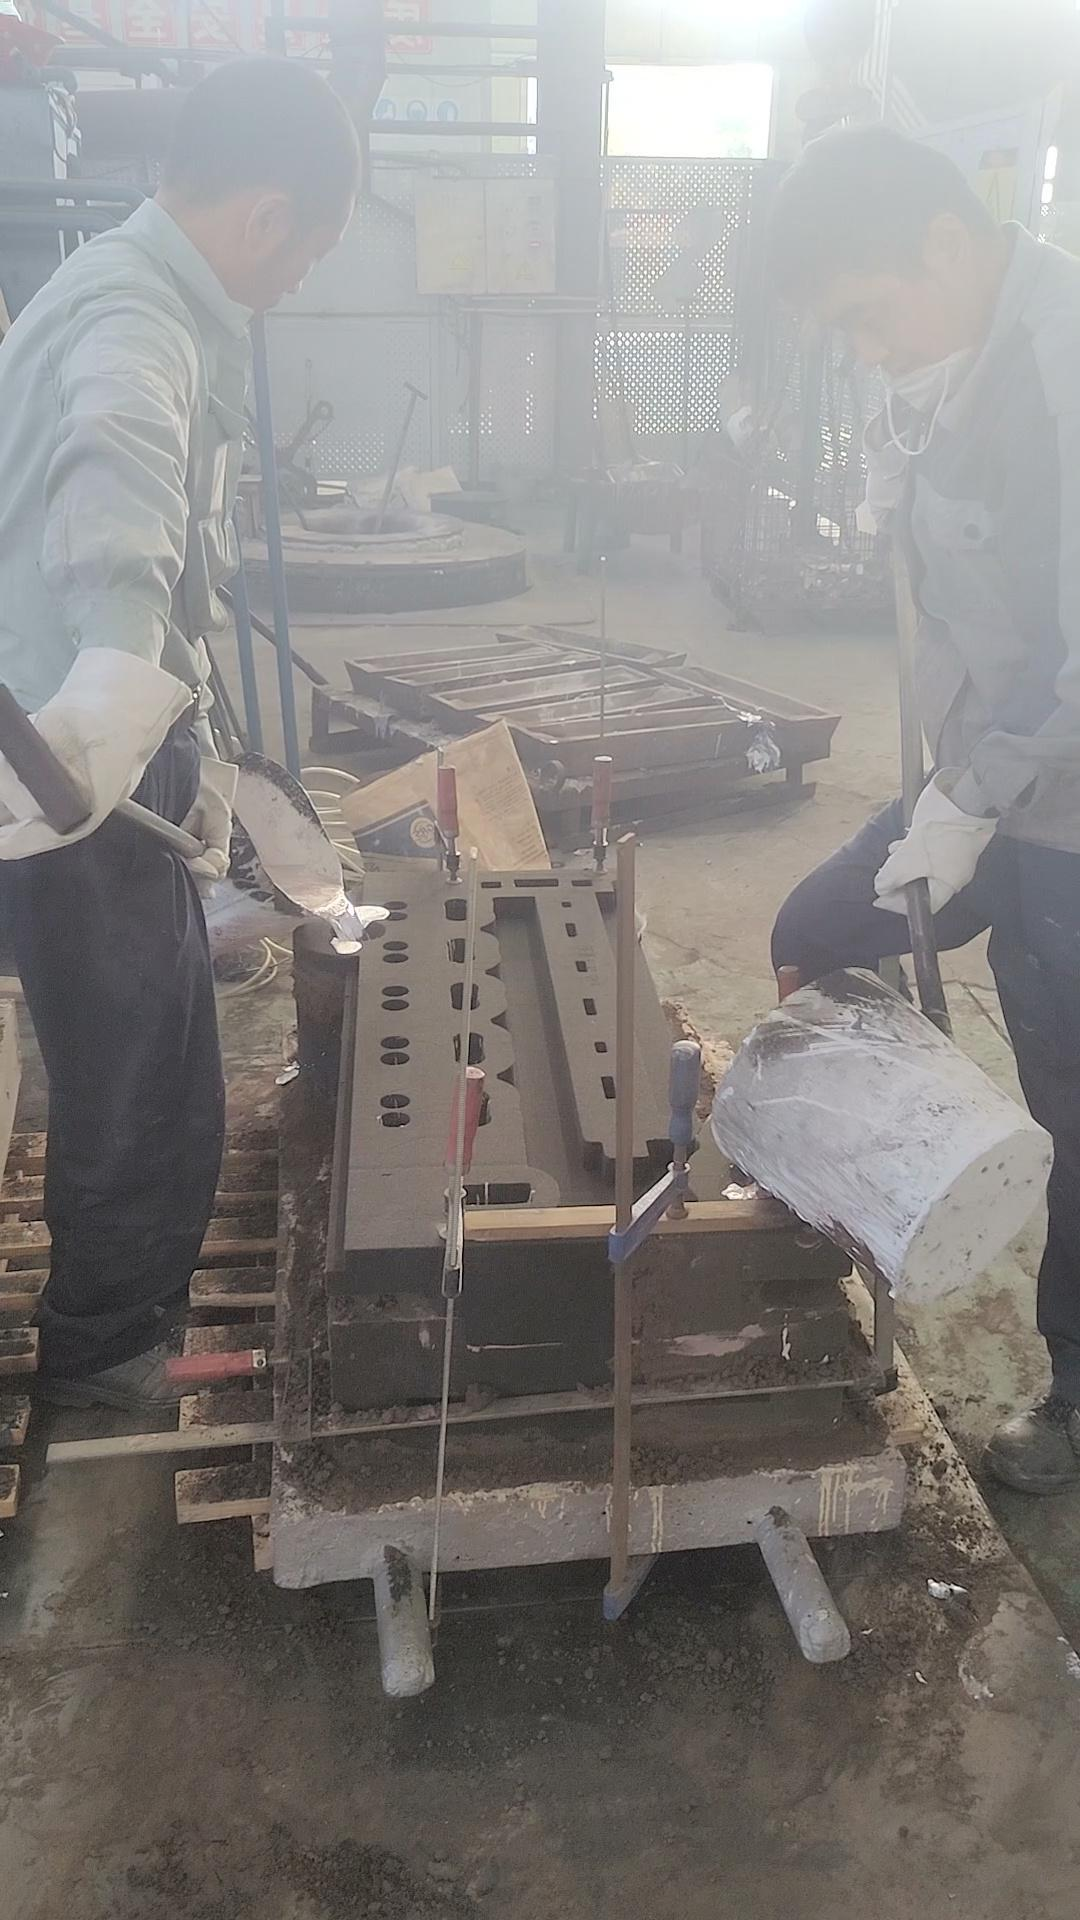pouring hole: (721, 1172, 786, 1207), (328, 920, 388, 942)
